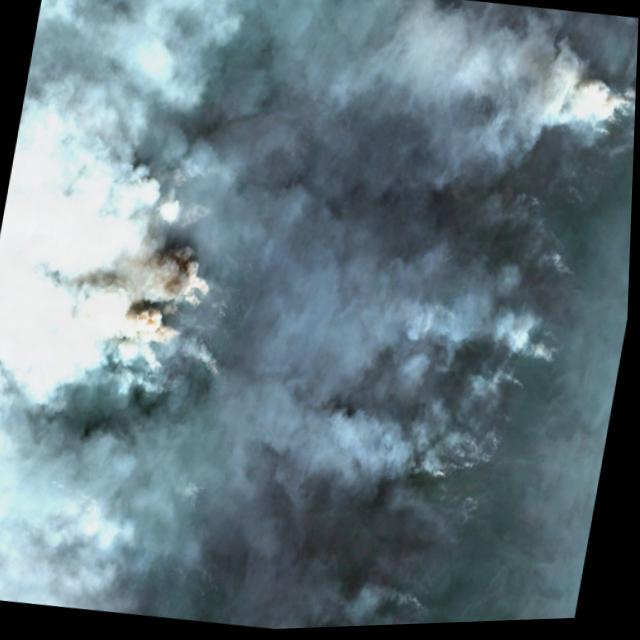fire: (135, 203, 255, 416), (449, 359, 541, 487), (518, 226, 593, 380), (584, 47, 638, 172)
